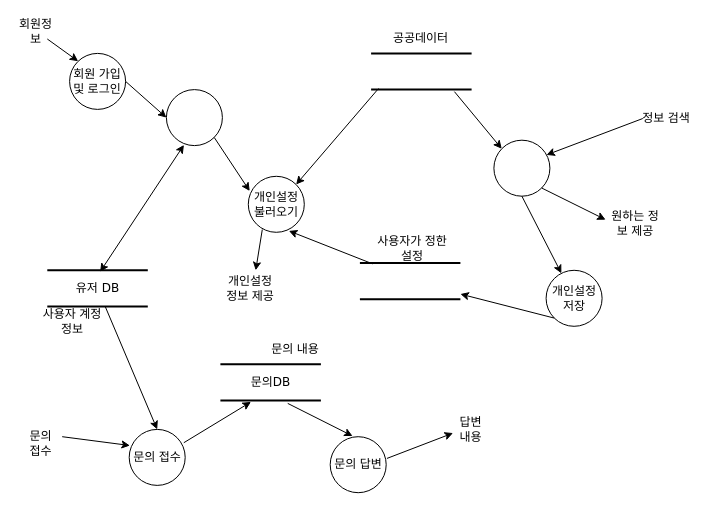
The diagram is 714 pixels wide and 512 high, and some of its shapes have lost their labels. The box of each missing label's shape, as (x1, y1, x2, y2) in pixels:
개인설정DB: (358, 262, 461, 300)
정보 조회: (493, 139, 550, 196)
정보DB: (370, 52, 472, 90)
회원 등록 및 조회: (165, 89, 222, 146)
